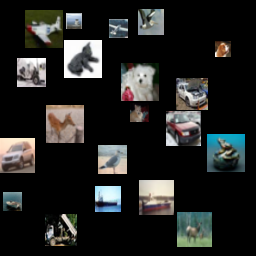airplane: (25, 10, 63, 48), (109, 19, 128, 38)
automobile: (166, 111, 201, 146), (0, 138, 35, 173), (176, 78, 208, 110)
bird: (98, 145, 127, 174), (138, 9, 164, 35)
cat: (64, 40, 102, 78), (66, 13, 82, 29)
deer: (46, 105, 84, 143), (177, 212, 212, 247)
dog: (121, 63, 159, 101), (130, 103, 149, 122), (215, 41, 231, 57)
frog: (207, 134, 245, 172)
ship: (139, 180, 174, 215), (95, 186, 121, 212), (3, 192, 22, 211)
